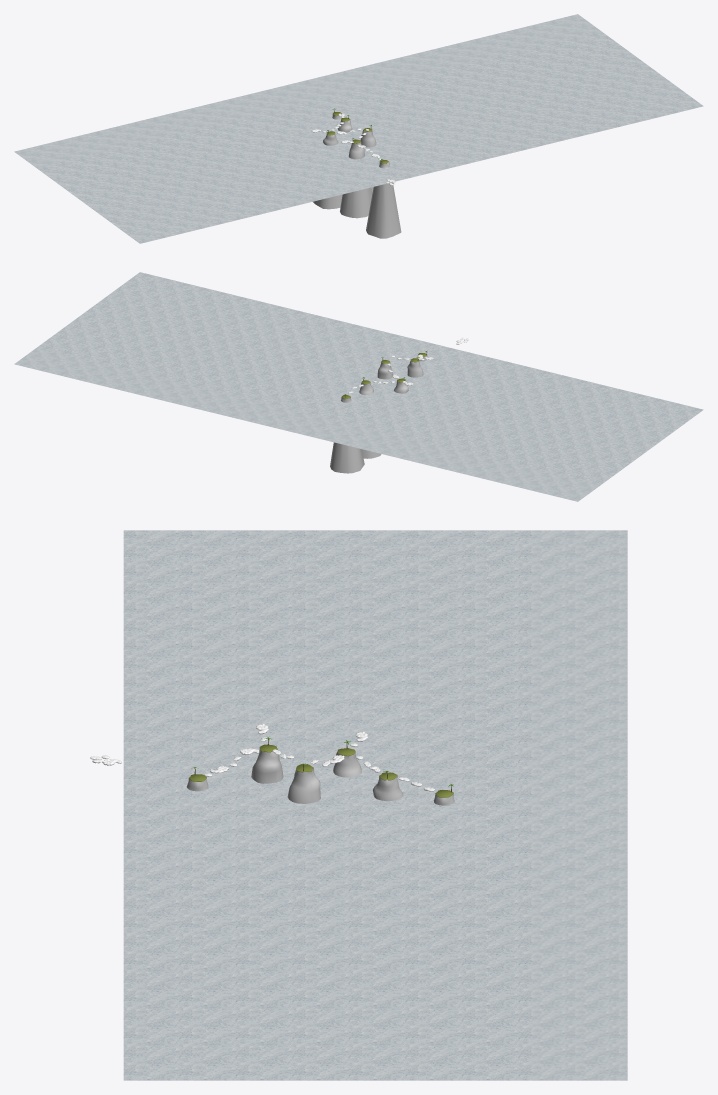
The model's file is wolken_3.fbx.
3 views of the same model, one above another, from view 1: azimuth 30°, elevation 25°; view 2: azimuth 150°, elevation 25°; view 3: azimuth 270°, elevation 25° (orthographic). The views are drawn at different scales.
Visible parts, largest first — view 1: wolkendecke, Circle, Circle.001, Circle.003; view 2: wolkendecke, Circle.005; view 3: wolkendecke, Circle.002, Circle.001.
Part boxes in pixels (x1,y1,x2,y2): wolkendecke: [14, 14, 703, 243]; Circle: [366, 160, 401, 238]; Circle.001: [340, 139, 371, 218]; Circle.003: [313, 131, 342, 209]; wolkendecke: [14, 272, 703, 501]; Circle.005: [330, 395, 364, 473]; wolkendecke: [123, 530, 627, 1080]; Circle.002: [287, 764, 320, 803]; Circle.001: [251, 744, 283, 783].
Bounding box in the file's own units: 148687 × 21142 × 61360.
